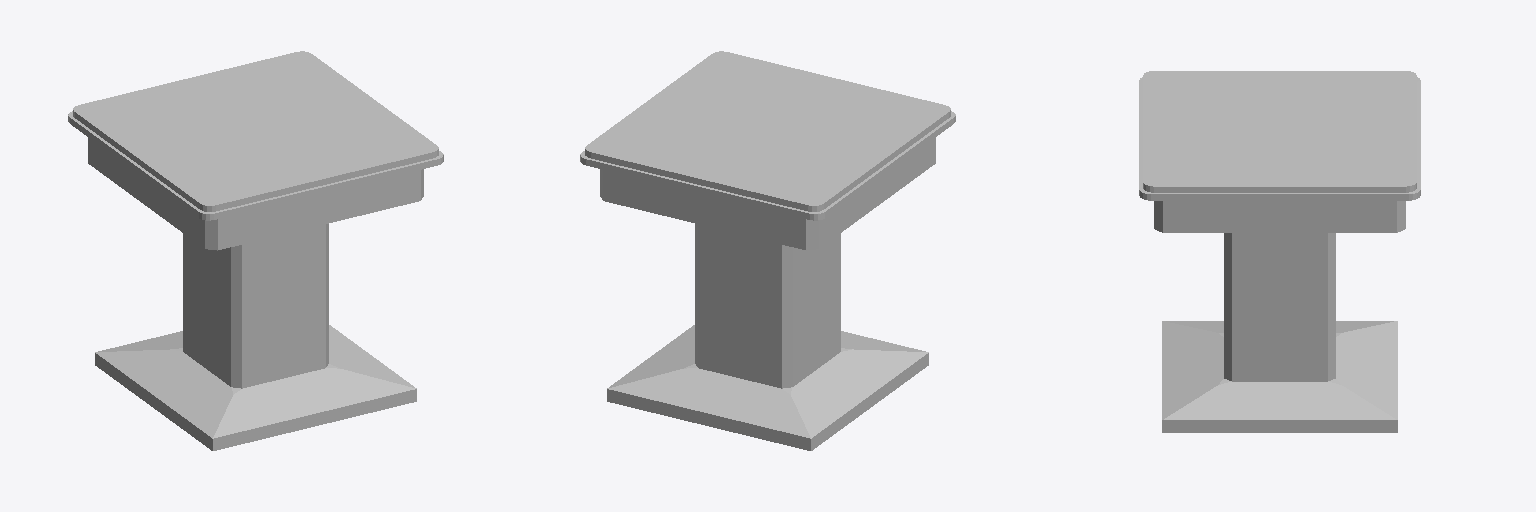
Rendered from Table.001.obj.
The picture shows the model from 3 angles: view 1: azimuth 30°, elevation 25°; view 2: azimuth 150°, elevation 25°; view 3: azimuth 270°, elevation 25°; orthographic projection.
Size of the model in its own units: 1 by 0.9997 by 1.